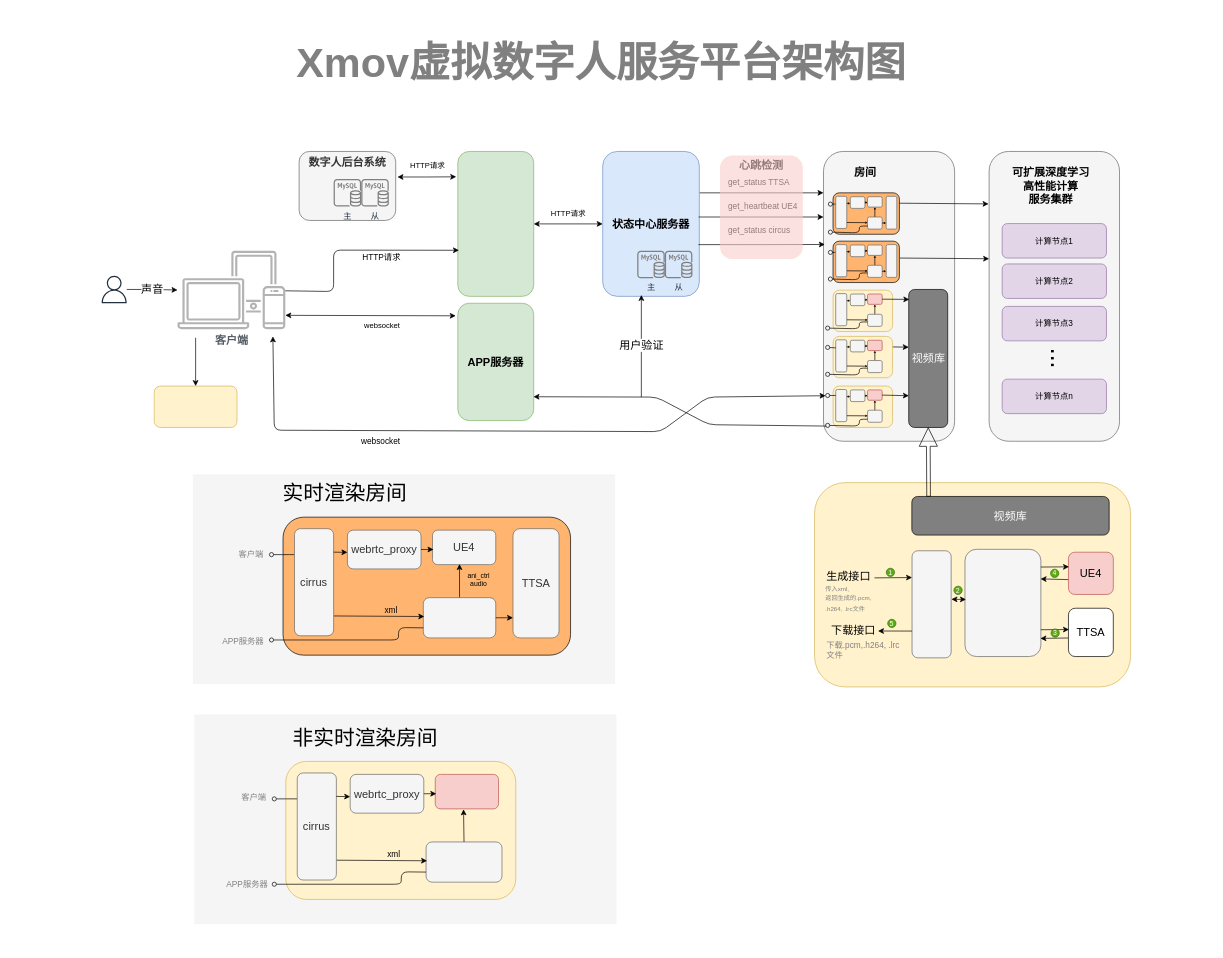
Image size: 1223x958. Some labels were removed from this diagram. Here are the shapes that lost their labels. From the top down, the centre of each, then its label:
At (495,223): "网关服务器".
At (195,406): "语音识别服务".
At (459,617): "ttsa_backend".
At (931,604): "flask".
At (1002,603): "ttsa_offline".
At (467,791): "视频流服务".
At (463,861): "ttsa_backend offline".
